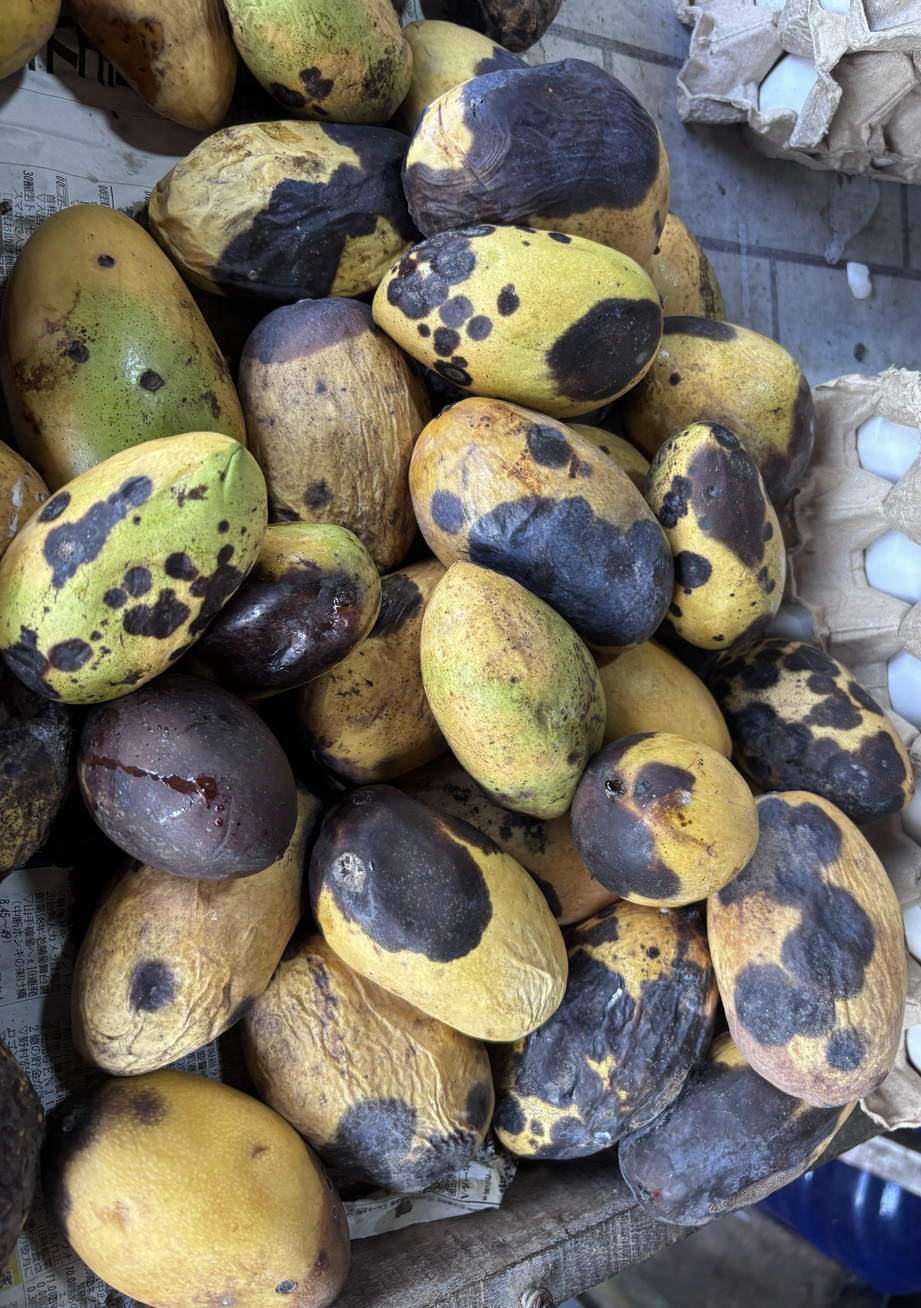mango: (309, 785, 568, 1041), (373, 224, 662, 419), (420, 562, 606, 818), (571, 733, 758, 906)
occluded: (71, 784, 322, 1076), (42, 1070, 349, 1308), (0, 432, 267, 704), (0, 204, 246, 491), (409, 398, 673, 651), (242, 933, 494, 1192), (707, 791, 907, 1107), (491, 900, 717, 1159), (403, 59, 670, 265), (238, 298, 431, 574), (149, 120, 420, 302), (77, 672, 297, 881), (619, 1033, 854, 1226), (395, 752, 616, 927), (709, 639, 913, 824), (621, 315, 813, 504), (186, 523, 381, 700), (297, 558, 447, 785), (646, 421, 785, 652), (225, 0, 412, 124), (71, 0, 237, 132), (0, 658, 79, 880), (594, 639, 732, 759), (392, 20, 527, 136), (645, 213, 726, 320), (444, 0, 561, 53), (571, 423, 650, 495), (0, 0, 61, 79)
